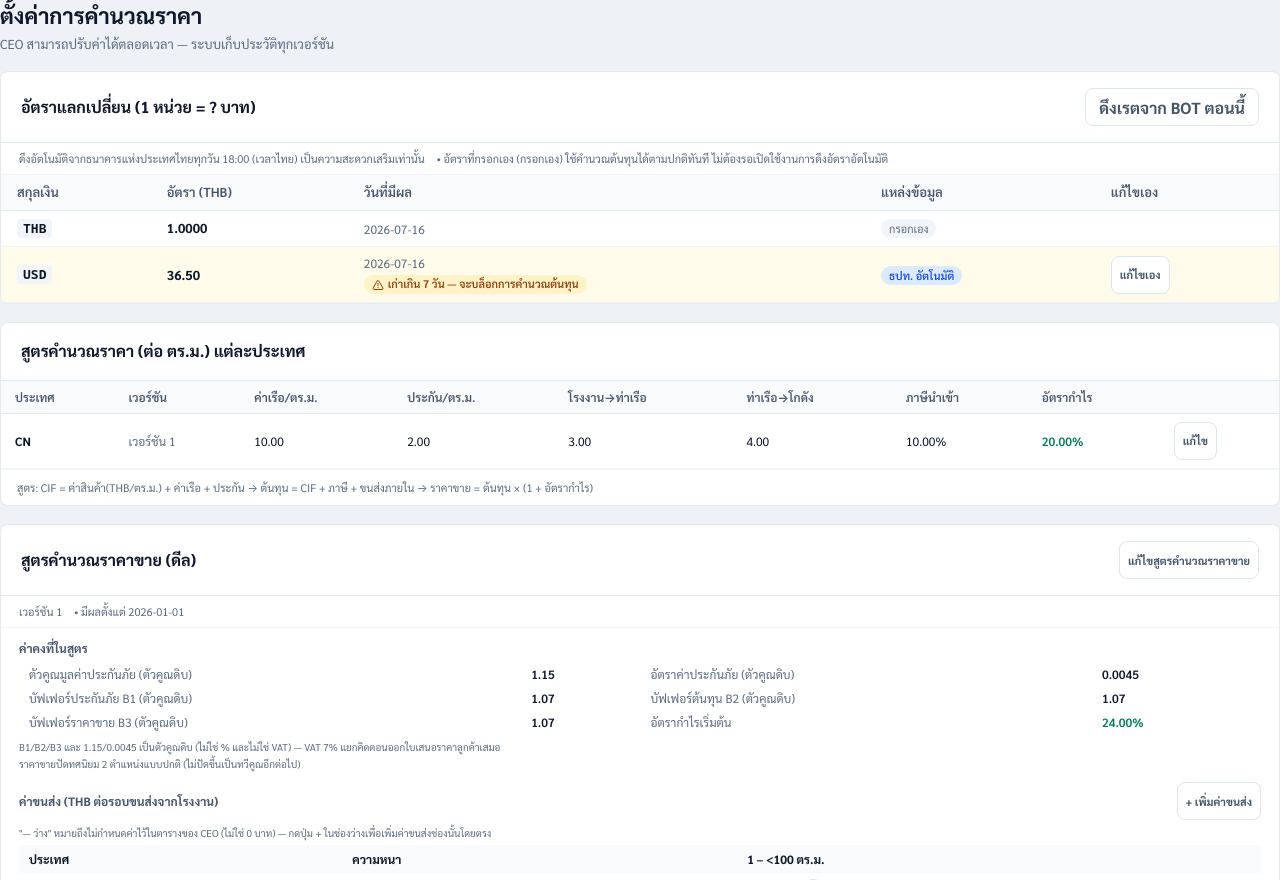
CeoSettingsPage › pricing formula config (สูตรคำนวณราคาขาย) › opens the formula editor as a real dialog with multiplier defaults unscaled and percent defaults scaled
Expected: the heading "สูตรคำนวณราคาขาย (ดีล)" is shown, [21,548,196,572]
Click the button "แก้ไขสูตรคำนวณราคาขาย". click: (1189,560)
box: [1119,541,1259,579]
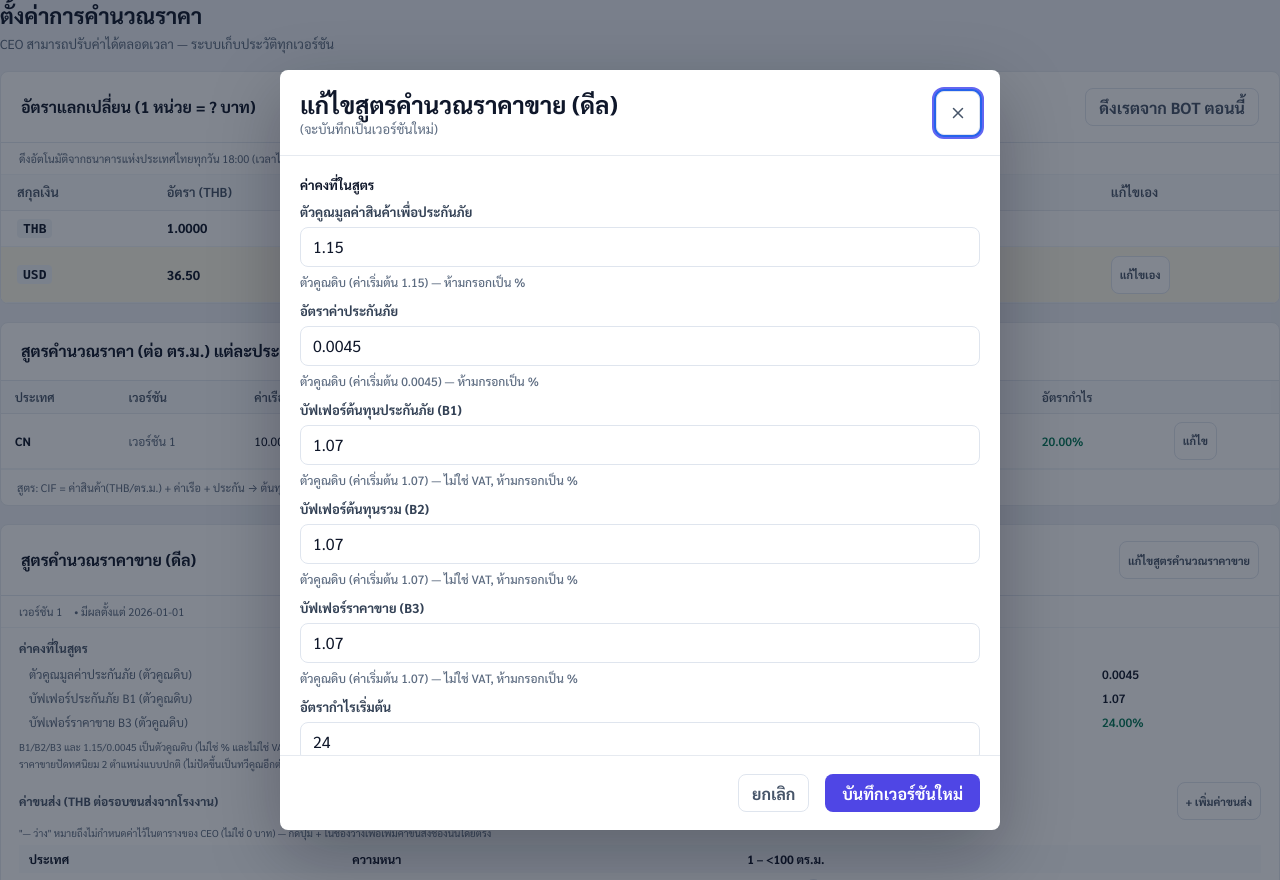
Expected: the number field labelled "ตัวคูณมูลค่าสินค้าเพื่อประกันภัย" holds "1.15", [300,227,980,267]
Expected: the number field labelled "อัตราค่าประกันภัย" holds "0.0045", [300,326,980,366]
Expected: the number field labelled "อัตรากำไรเริ่มต้น" holds "24", [300,722,980,755]
